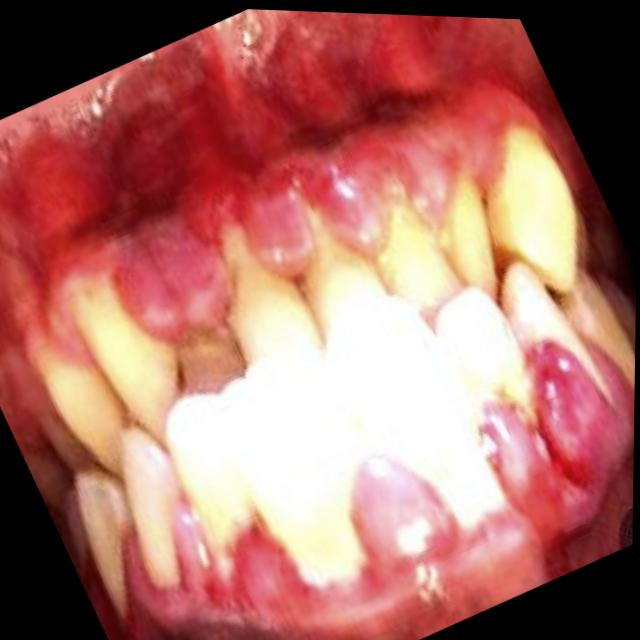gingivitis: (125, 345, 635, 640), (28, 81, 540, 367)
